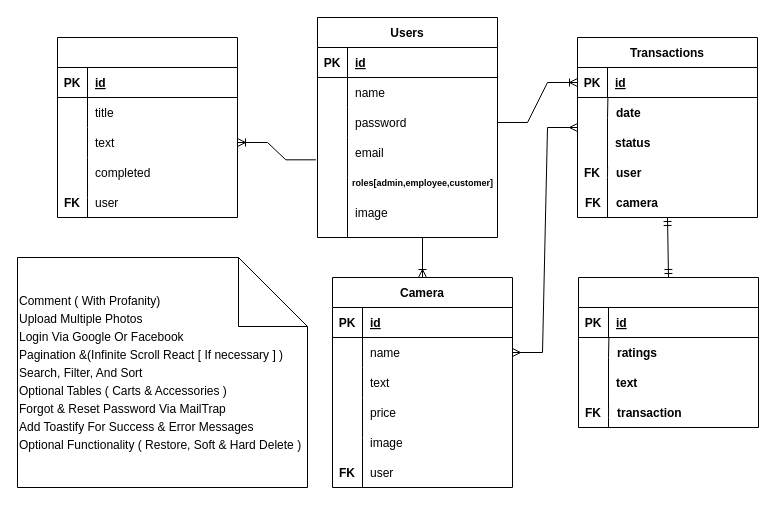
Some shapes in this 777 by 506 pixel diagram are drawn without their labels. Here are the shapes that lost their labels. From the top down, the box of each, then its label:
(56, 36, 238, 218): Notes
(578, 276, 758, 428): Comments
